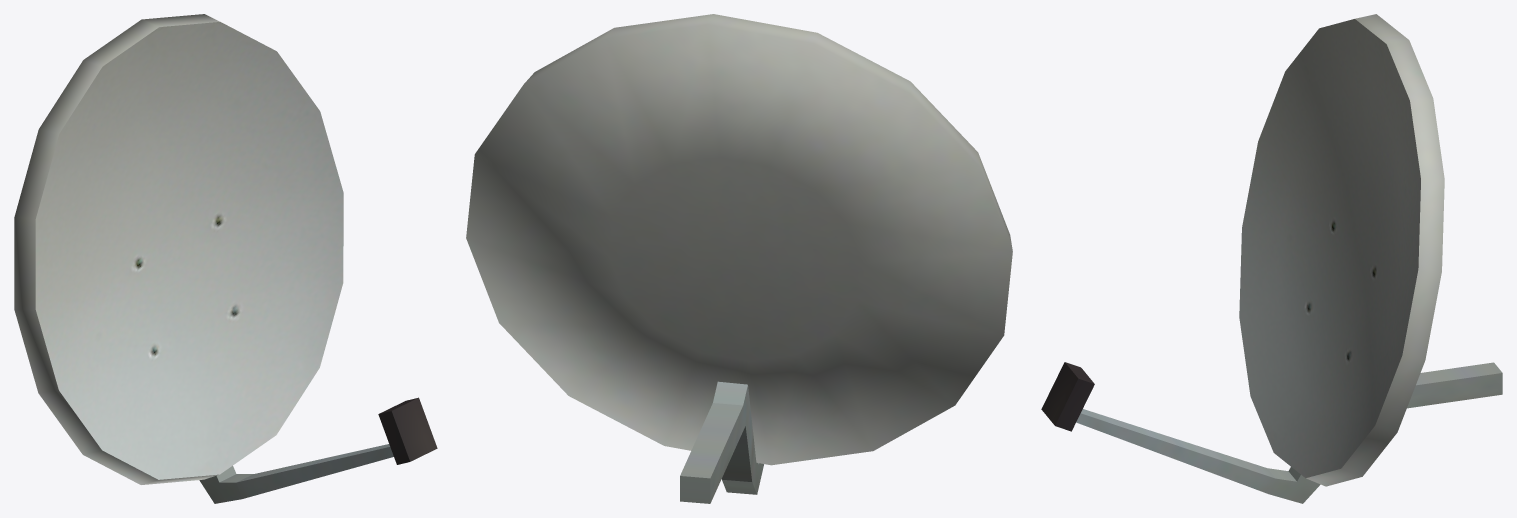
File: S_antenna.fbx
3 views of the same model, side by side, from view 1: azimuth 30°, elevation 25°; view 2: azimuth 150°, elevation 25°; view 3: azimuth 270°, elevation 25° (orthographic). The views are drawn at different scales.
Parts seen in each view (by area): view 1: S_antenna; view 2: S_antenna; view 3: S_antenna.
Boxes of the visible parts, bbox=[...] form: S_antenna: bbox=[14, 14, 437, 503]; S_antenna: bbox=[466, 14, 1012, 503]; S_antenna: bbox=[1041, 14, 1502, 503].
Bounding box in the file's own units: 133 × 145 × 136.
